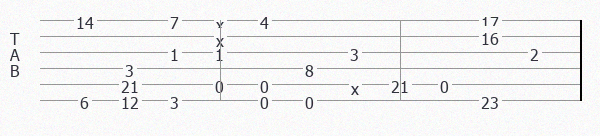0: (215, 76, 228, 92), (260, 92, 273, 108), (260, 76, 273, 92), (305, 92, 318, 108), (440, 76, 453, 92)
1: (170, 44, 183, 60), (215, 44, 228, 60)
12: (121, 92, 143, 108)
14: (76, 12, 98, 28)
16: (481, 28, 503, 44)
17: (481, 12, 503, 28)
2: (530, 44, 543, 60)
21: (121, 76, 143, 92), (391, 76, 413, 92)
23: (481, 92, 503, 108)
3: (125, 60, 138, 76), (170, 92, 183, 108), (350, 44, 363, 60)
4: (260, 12, 273, 28)
6: (80, 92, 93, 108)
7: (170, 12, 183, 28)
8: (305, 60, 318, 76)
x: (216, 14, 228, 27), (216, 30, 228, 43), (351, 78, 363, 91)
